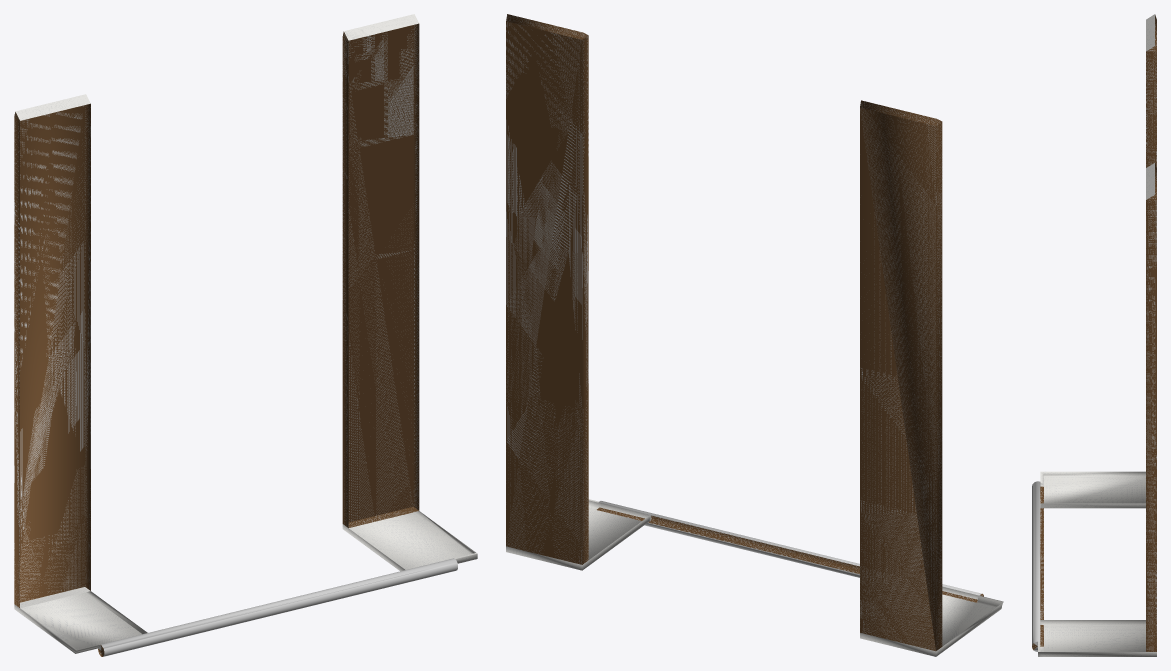
The model's file is original-20.obj.
3 renders of one model, left to right at view 1: azimuth 30°, elevation 25°; view 2: azimuth 150°, elevation 25°; view 3: azimuth 270°, elevation 25°, orthographic. The views are drawn at different scales.
Parts seen in each view (by area): view 1: 3dw.547ad62bd93988fff0117851f0671fde/Model/mesh1/mesh1-geometry/; view 2: 3dw.547ad62bd93988fff0117851f0671fde/Model/mesh1/mesh1-geometry/; view 3: 3dw.547ad62bd93988fff0117851f0671fde/Model/mesh1/mesh1-geometry/.
Boxes of the visible parts, x1,y1,x2,y2 form: 3dw.547ad62bd93988fff0117851f0671fde/Model/mesh1/mesh1-geometry/: (14,14,477,656); 3dw.547ad62bd93988fff0117851f0671fde/Model/mesh1/mesh1-geometry/: (506,14,1003,656); 3dw.547ad62bd93988fff0117851f0671fde/Model/mesh1/mesh1-geometry/: (1032,14,1156,656).
Bounding box in the file's own units: 0.8952 × 1.08 × 0.2617.
